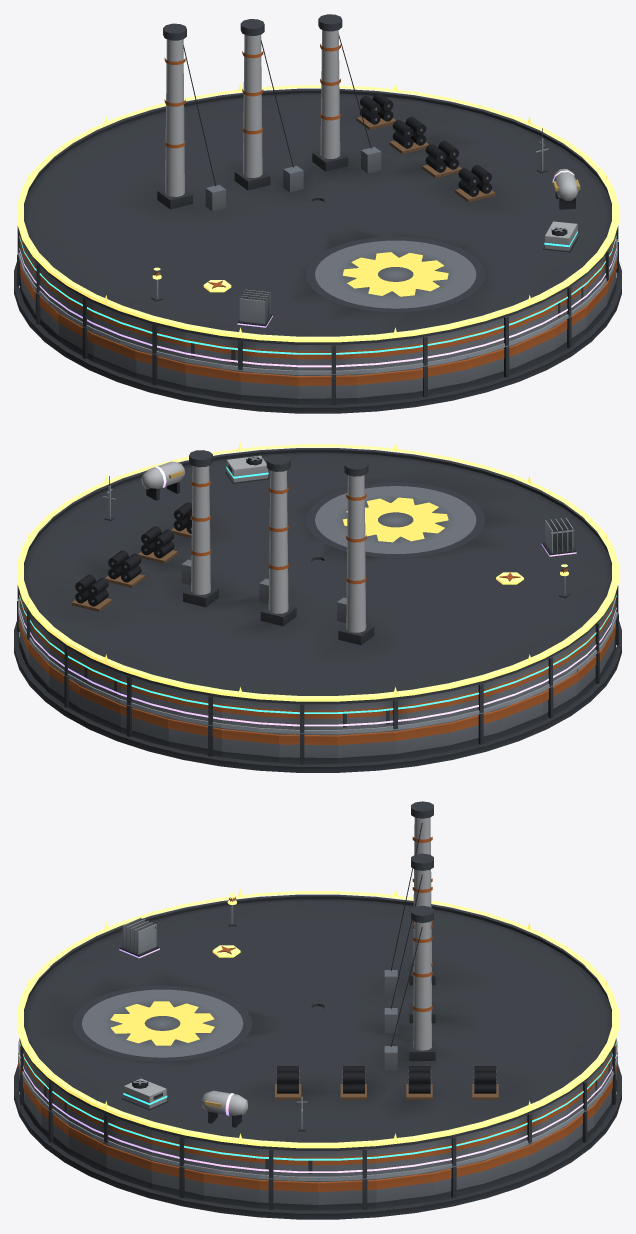
Rendered from carbon_works_xl_far.glb.
The picture shows the model from 3 angles, top to bottom: view 1: azimuth 30°, elevation 25°; view 2: azimuth 150°, elevation 25°; view 3: azimuth 270°, elevation 25°; orthographic projection.
Parts seen in each view (by area): view 1: Roof, Base, L5, L4, L2, L3; view 2: Roof, Base, L5, L4, L2, L3; view 3: Roof, Base, L5, L4, L2, L3.
Boxes of the visible parts, box(x1,y1,x2,y2) form: Roof: box(17, 14, 618, 373); Base: box(14, 242, 621, 413); L5: box(17, 83, 618, 342); L4: box(19, 168, 616, 367); L2: box(18, 128, 617, 374); L3: box(19, 197, 616, 354); Roof: box(17, 448, 618, 733); Base: box(14, 601, 621, 772); L5: box(17, 442, 618, 701); L4: box(19, 461, 616, 726); L2: box(18, 476, 617, 734); L3: box(19, 455, 616, 713); Roof: box(19, 801, 616, 1178); Base: box(14, 1052, 621, 1219); L5: box(17, 889, 618, 1148); L4: box(19, 917, 616, 1172); L2: box(18, 1039, 617, 1180); L3: box(19, 1003, 616, 1160).
Size of the model in its own units: 23.15 by 10.1 by 23.15.
